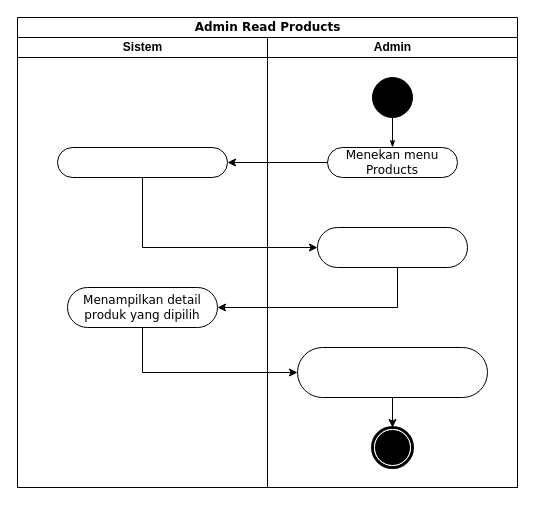
Image size: 535x505. Some labels were removed from this diagram. The centre of each missing label's shape, as x and y in pixels:
"Melihat daftar produk dan detail produk yang dipilih" goes at (392,372).
"Menampilkan list produk" goes at (142,162).
"Menekan details pada salah satu produk" goes at (392,247).
